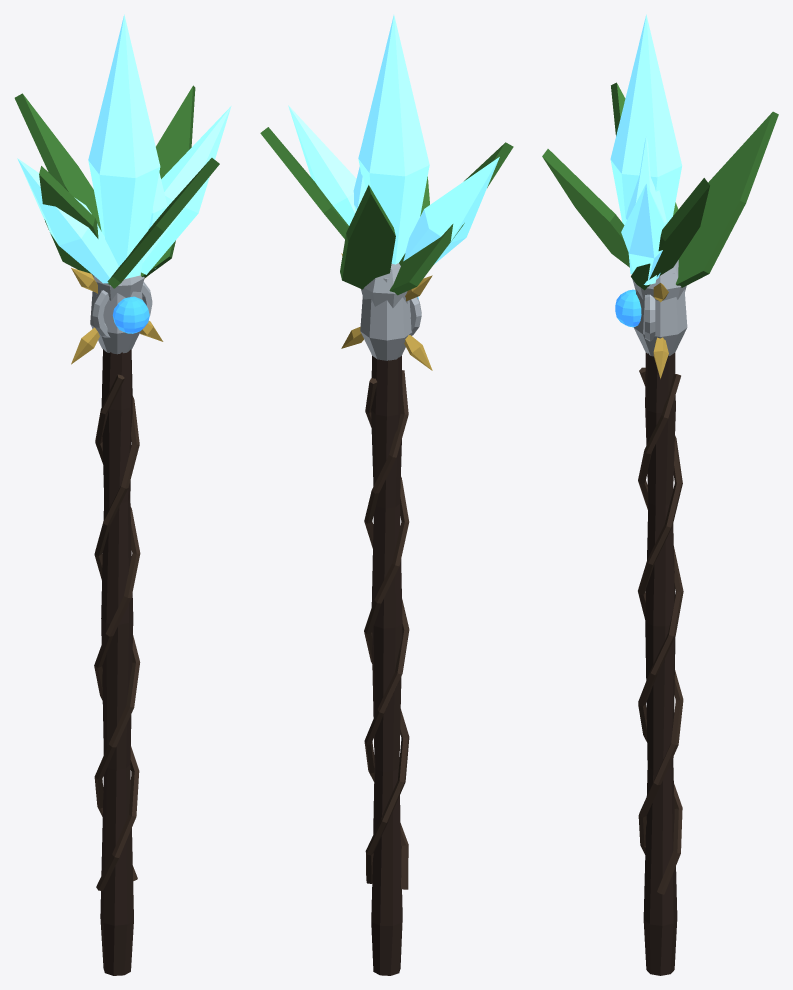
Rendered from staff_jadeleaf.glb.
The picture shows the model from 3 angles, left to right: view 1: azimuth 30°, elevation 25°; view 2: azimuth 150°, elevation 25°; view 3: azimuth 270°, elevation 25°; orthographic projection.
Visible parts, largest first — view 1: Jl_Shaft, Jl_Crystal0, Jl_Crystal1, Jl_Vine1, Jl_Crystal2, Jl_Vine0, Jl_Leaf0, Jl_Leaf3, Jl_Leaf2, Jl_Leaf1, Jl_Neck, Jl_Gem (+2 smaller); view 2: Jl_Shaft, Jl_Crystal0, Jl_Leaf0, Jl_Crystal2, Jl_Vine1, Jl_Vine0, Jl_Crystal1, Jl_Neck, Jl_Leaf1, Jl_Leaf3, Jl_Seat; view 3: Jl_Shaft, Jl_Crystal0, Jl_Leaf0, Jl_Vine0, Jl_Vine1, Jl_Leaf2, Jl_Leaf3, Jl_Crystal1, Jl_Neck, Jl_Crystal3, Jl_Gem, Jl_Seat.
Boxes of the visible parts, x1,y1,x2,y2 form: Jl_Shaft: [100, 349, 133, 975]; Jl_Crystal0: [88, 14, 160, 279]; Jl_Crystal1: [141, 106, 231, 274]; Jl_Vine1: [94, 374, 140, 890]; Jl_Crystal2: [17, 158, 118, 283]; Jl_Vine0: [94, 396, 140, 880]; Jl_Leaf0: [14, 93, 101, 231]; Jl_Leaf3: [141, 85, 195, 277]; Jl_Leaf2: [107, 158, 219, 288]; Jl_Leaf1: [39, 166, 99, 273]; Jl_Neck: [90, 290, 142, 354]; Jl_Gem: [112, 296, 149, 333]; Jl_Shaft: [371, 356, 402, 975]; Jl_Crystal0: [358, 15, 429, 264]; Jl_Leaf0: [340, 185, 395, 289]; Jl_Crystal2: [403, 157, 499, 264]; Jl_Vine1: [364, 370, 409, 889]; Jl_Vine0: [364, 378, 409, 883]; Jl_Crystal1: [288, 105, 356, 225]; Jl_Neck: [360, 278, 412, 360]; Jl_Leaf1: [389, 142, 513, 295]; Jl_Leaf3: [260, 127, 349, 238]; Jl_Seat: [361, 263, 407, 307]; Jl_Shaft: [643, 352, 677, 975]; Jl_Crystal0: [610, 14, 682, 274]; Jl_Leaf0: [676, 111, 778, 287]; Jl_Vine0: [638, 373, 683, 894]; Jl_Vine1: [638, 367, 683, 854]; Jl_Leaf2: [542, 149, 629, 267]; Jl_Leaf3: [631, 178, 709, 290]; Jl_Crystal1: [621, 183, 665, 280]; Jl_Neck: [633, 273, 687, 356]; Jl_Crystal3: [625, 136, 666, 285]; Jl_Gem: [615, 289, 641, 327]; Jl_Seat: [632, 260, 686, 300].
Size of the model in its own units: 0.5229 by 2.24 by 0.503.
